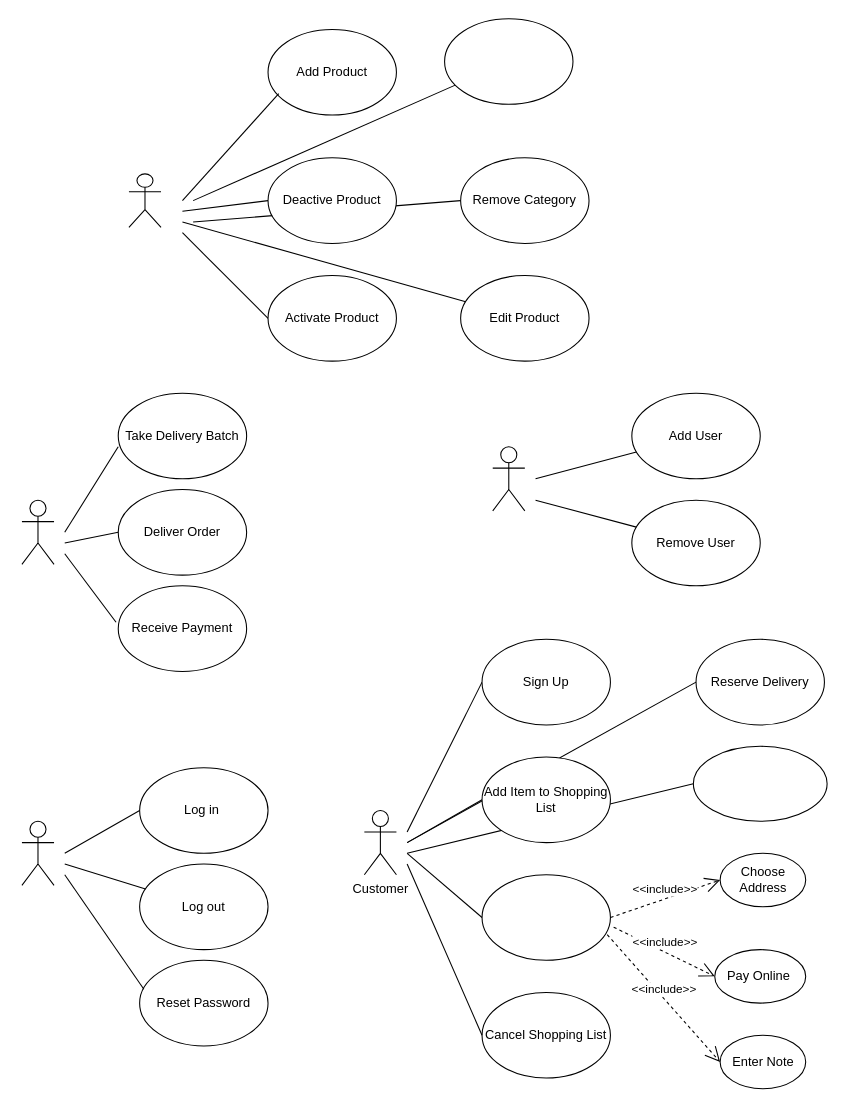
The diagram is 846 pixels wide and 1107 high, and some of its shapes have lost their labels. The box of each missing label's shape, as (x1, y1, x2, y2) in pixels:
Add Category: (444, 18, 573, 104)
Administrator: (492, 446, 525, 511)
Confirm Shopping List: (481, 874, 610, 960)
courier: (21, 499, 54, 564)
Product Editor: (128, 173, 161, 227)
Remove Item from Shopping List: (692, 745, 827, 821)
User: (21, 820, 54, 885)
